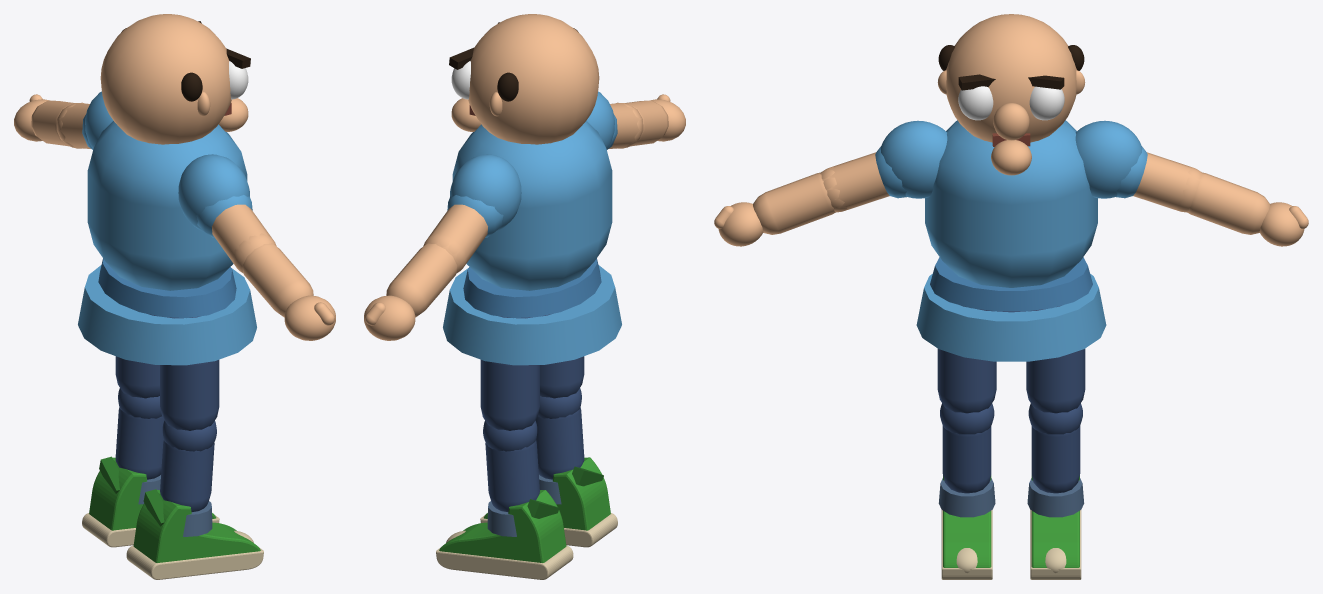
File: tnk2.glb
3 renders of one model, left to right at view 1: azimuth 30°, elevation 25°; view 2: azimuth 150°, elevation 25°; view 3: azimuth 270°, elevation 25°, orthographic.
Size of the model in its own units: 0.3825 by 1.28 by 1.29.
